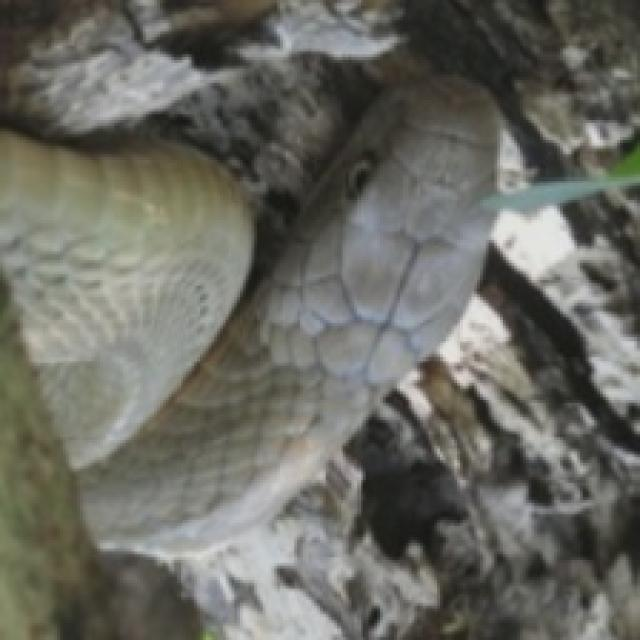king cobra: (0, 0, 637, 551)
